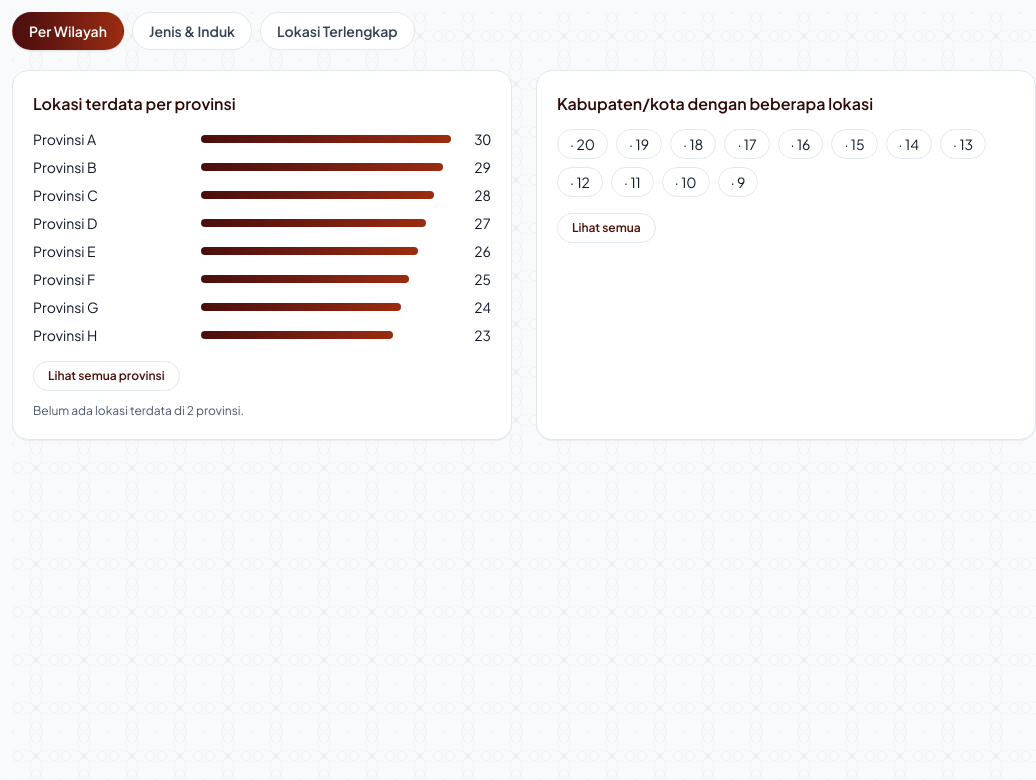
Test case: RegionBreakdownTabs › shows Jenis & Induk as two cards with filter links
This screenshot has width=1036, height=780.
Click the tab "Jenis & Induk" at (192, 31), box [132,12,252,50]
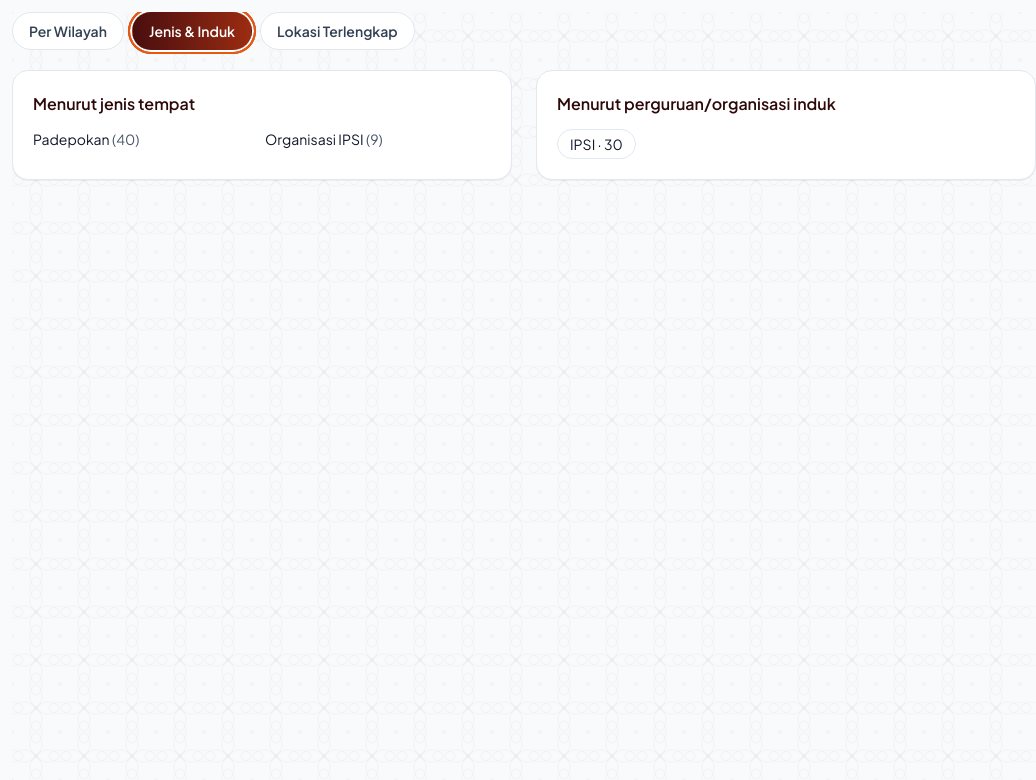
expect the heading "Menurut jenis tempat" is shown: met, box [33,93,195,114]
expect the heading "Menurut perguruan/organisasi induk" is shown: met, box [557,93,836,114]
expect the heading "Lokasi terdata per provinsi" is gone: met
